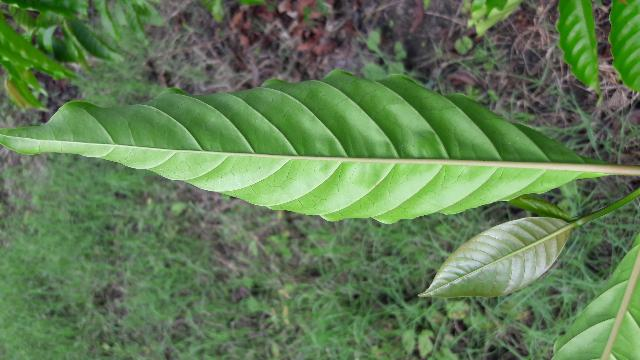healthy: (1, 72, 610, 223)
